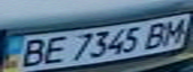3: (90, 28, 112, 60)
4: (106, 26, 130, 56)
5: (121, 24, 148, 54)
7: (69, 30, 93, 62)
B: (9, 36, 51, 70), (139, 19, 175, 49)
E: (36, 34, 72, 65)
M: (157, 16, 193, 46)
